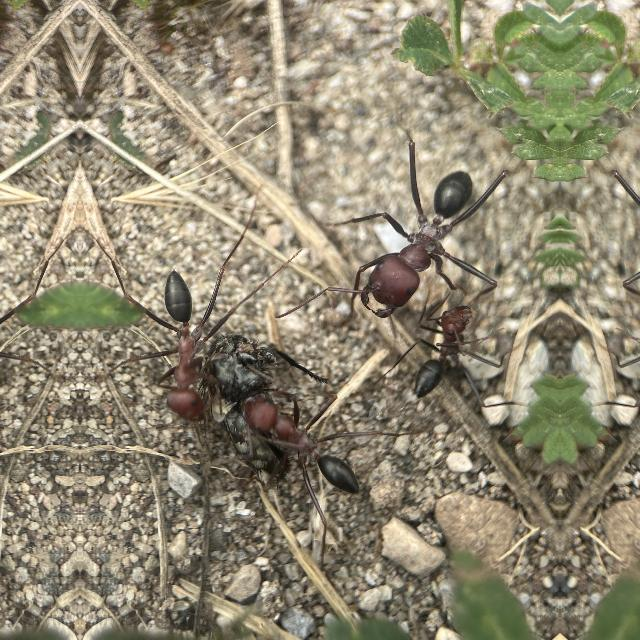Cataglyphis: (342, 144, 488, 330), (232, 365, 376, 523), (135, 254, 229, 451), (406, 290, 486, 408), (0, 252, 24, 449)
